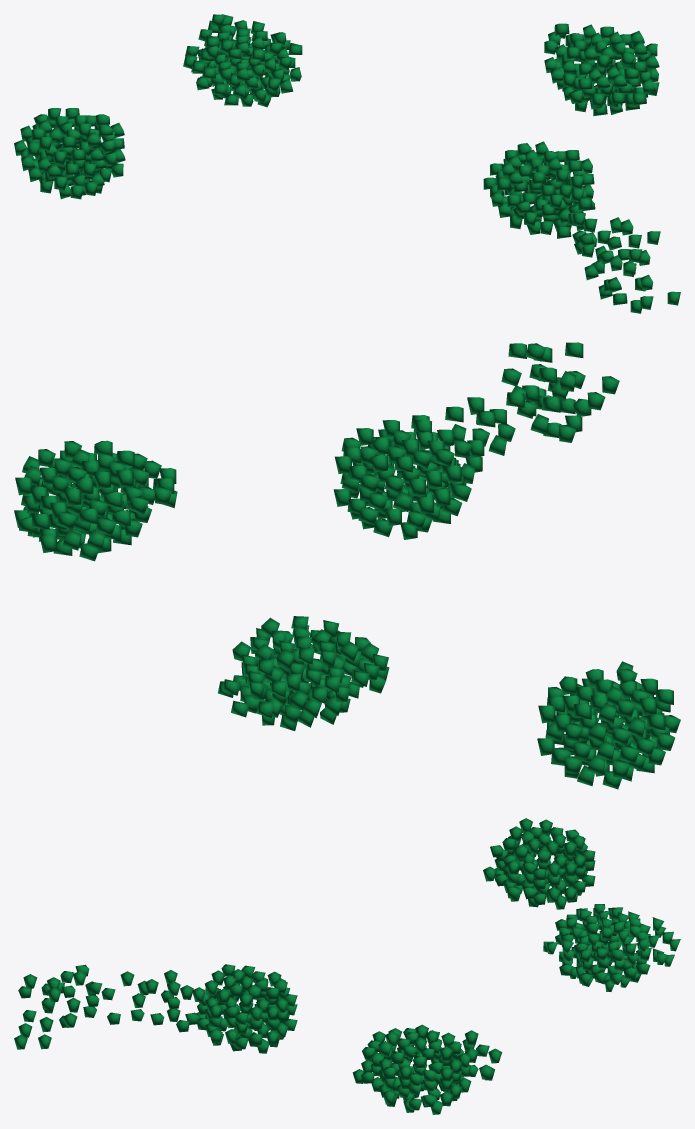
Rendered from perox2.glb.
The picture shows the model from 3 angles, top to bottom: view 1: azimuth 30°, elevation 25°; view 2: azimuth 150°, elevation 25°; view 3: azimuth 270°, elevation 25°; orthographic projection. The views are drawn at different scales.
Visible parts, largest first — view 1: Oxygen.001; view 2: Oxygen.001; view 3: Oxygen.001.
Part boxes in pixels (left/top/right/bottom): Oxygen.001: left=14, top=14, right=680, bottom=313; Oxygen.001: left=14, top=342, right=680, bottom=789; Oxygen.001: left=14, top=818, right=680, bottom=1114.
Bounding box in the file's own units: 3.87 × 0.5847 × 4.11.
